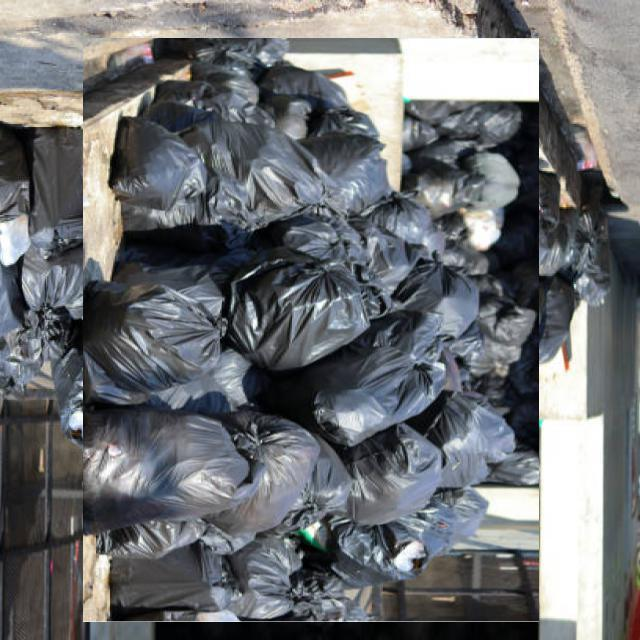Trashbag: (76, 415, 247, 533), (80, 277, 222, 411), (238, 262, 372, 373), (291, 347, 440, 445), (185, 109, 310, 224), (151, 34, 287, 130), (0, 123, 96, 255), (2, 314, 95, 442), (330, 424, 444, 523), (234, 417, 318, 547), (276, 62, 386, 142), (20, 235, 100, 337), (409, 399, 506, 483), (373, 258, 479, 334), (269, 203, 376, 274), (302, 133, 396, 213), (115, 116, 190, 207), (408, 491, 488, 576), (335, 514, 422, 592), (232, 534, 301, 621), (366, 194, 433, 238)
